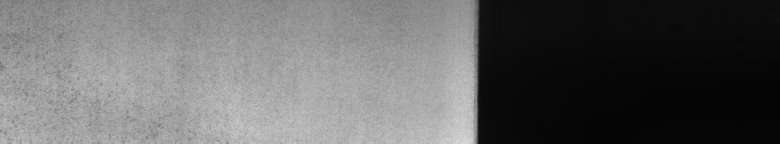ib: (4, 34, 163, 132)
